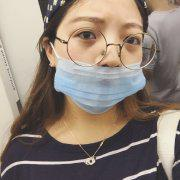WRONG: (54, 21, 145, 112)
